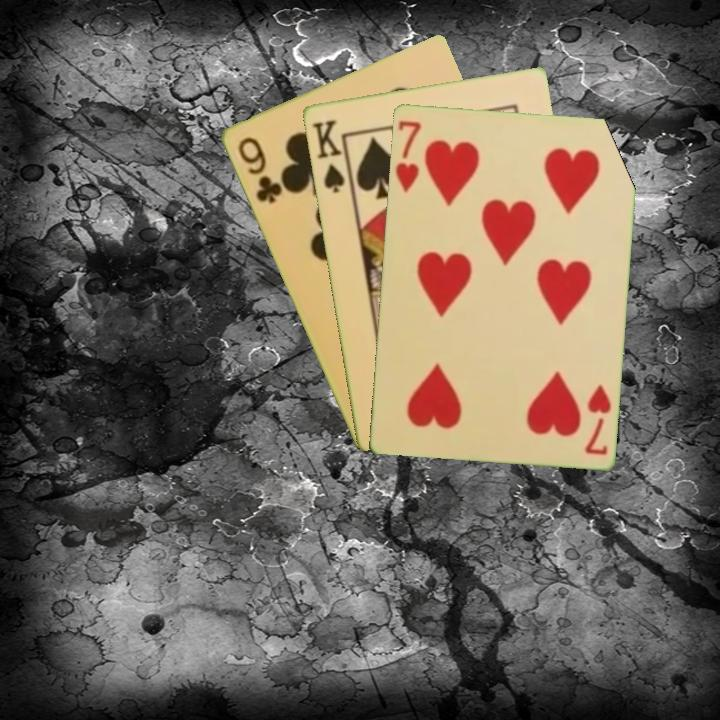7h: (580, 380, 614, 457), (391, 117, 423, 196)
9c: (233, 133, 284, 206)
Ks: (308, 116, 353, 195)
